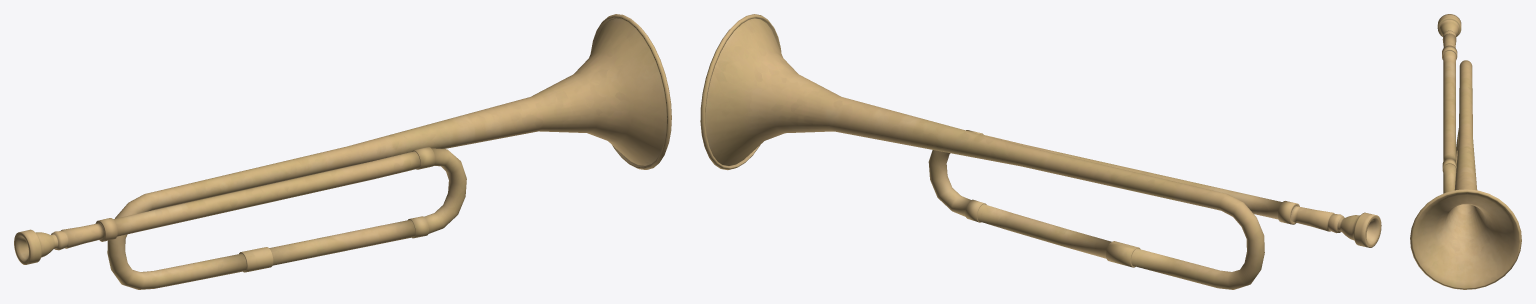
3 renders of one model, left to right at view 1: azimuth 30°, elevation 25°; view 2: azimuth 150°, elevation 25°; view 3: azimuth 270°, elevation 25°, orthographic. The views are drawn at different scales.
Visible parts, largest first — view 1: Bugle; view 2: Bugle; view 3: Bugle.
Boxes of the visible parts, box(x1,y1,x2,y2) form: Bugle: box(14, 14, 671, 289); Bugle: box(700, 14, 1381, 289); Bugle: box(1410, 14, 1521, 289).
Size of the model in its own units: 0.4811 by 0.1136 by 0.1064.
Materials: 1 (1 with a texture image).
